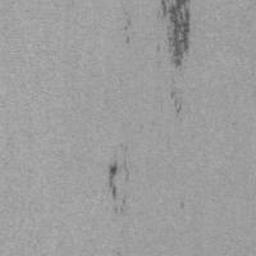Inclusion: (161, 0, 191, 67), (109, 162, 118, 199)
